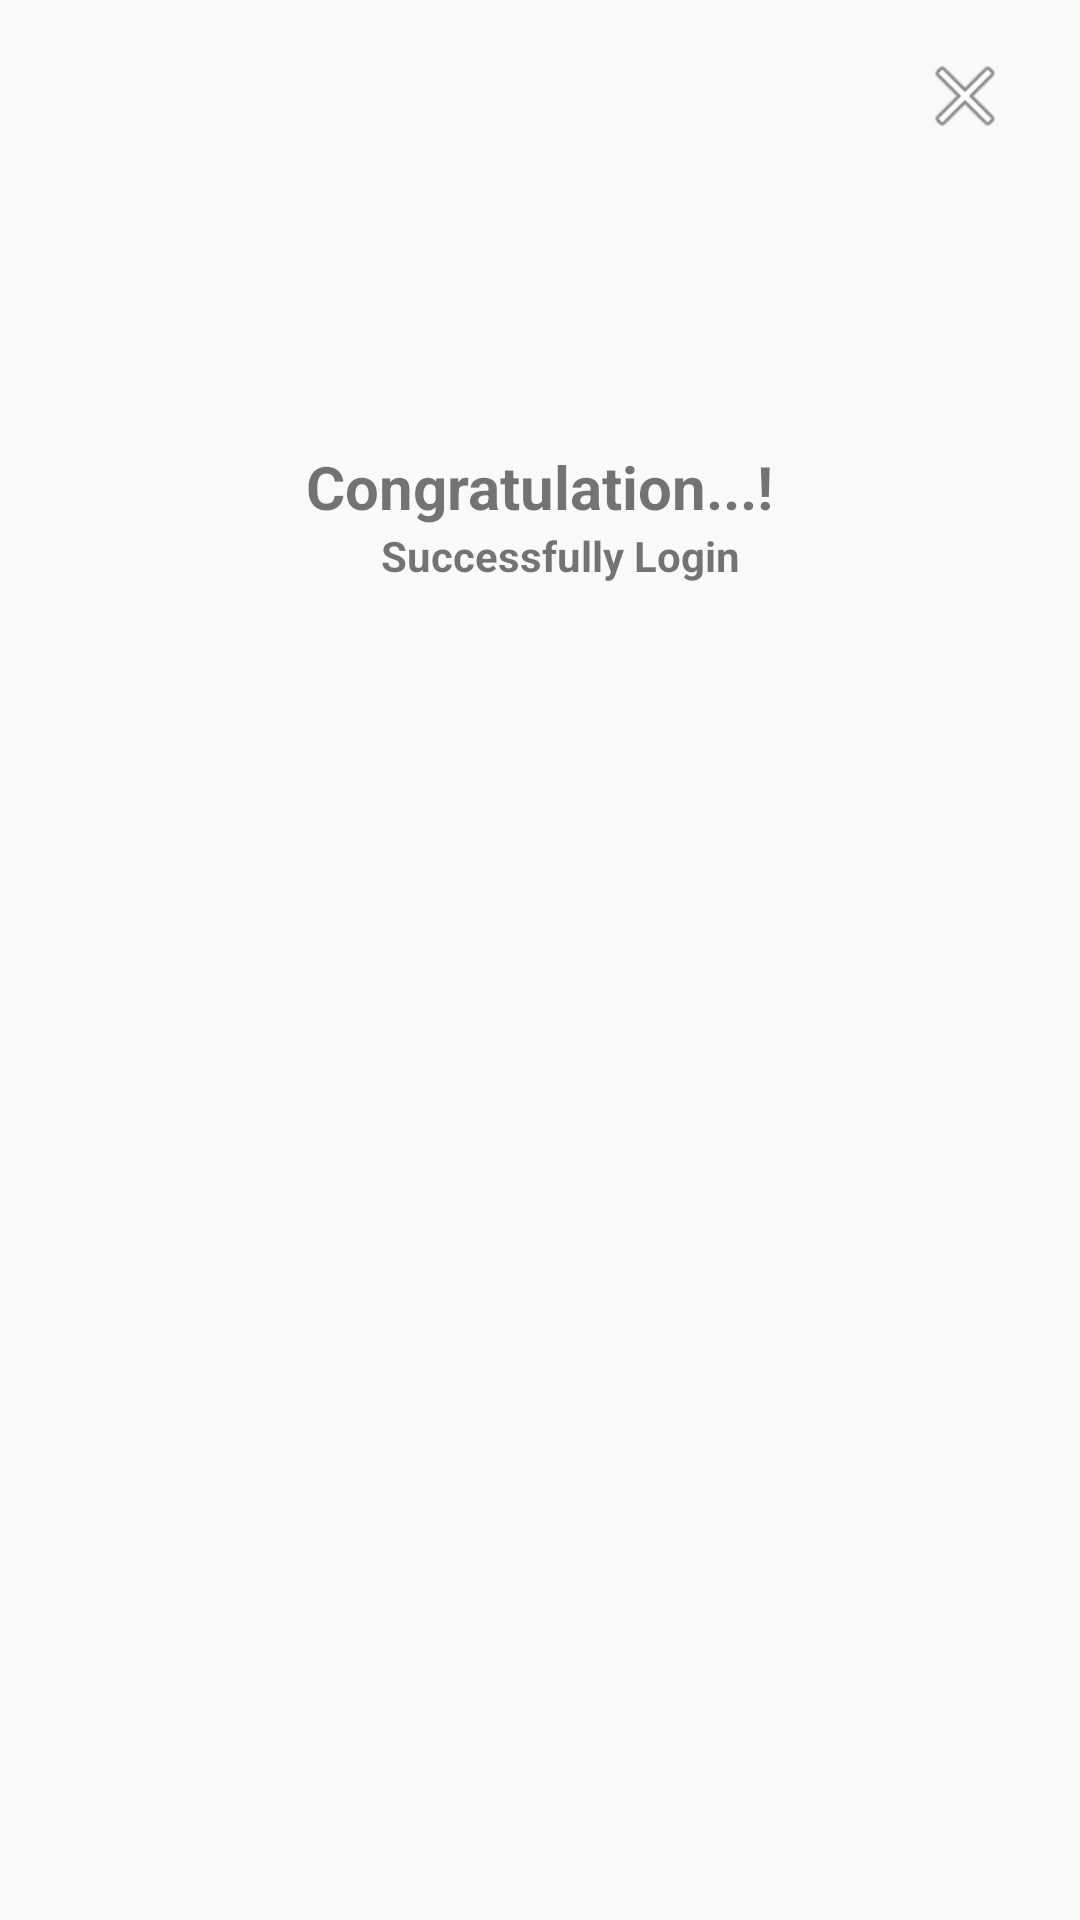

Locate icon controls on the screen. Image size 1080px x 1920px, boxes as region(x1, y1, x2, y2).
close clear cancel: region(935, 66, 995, 126)
